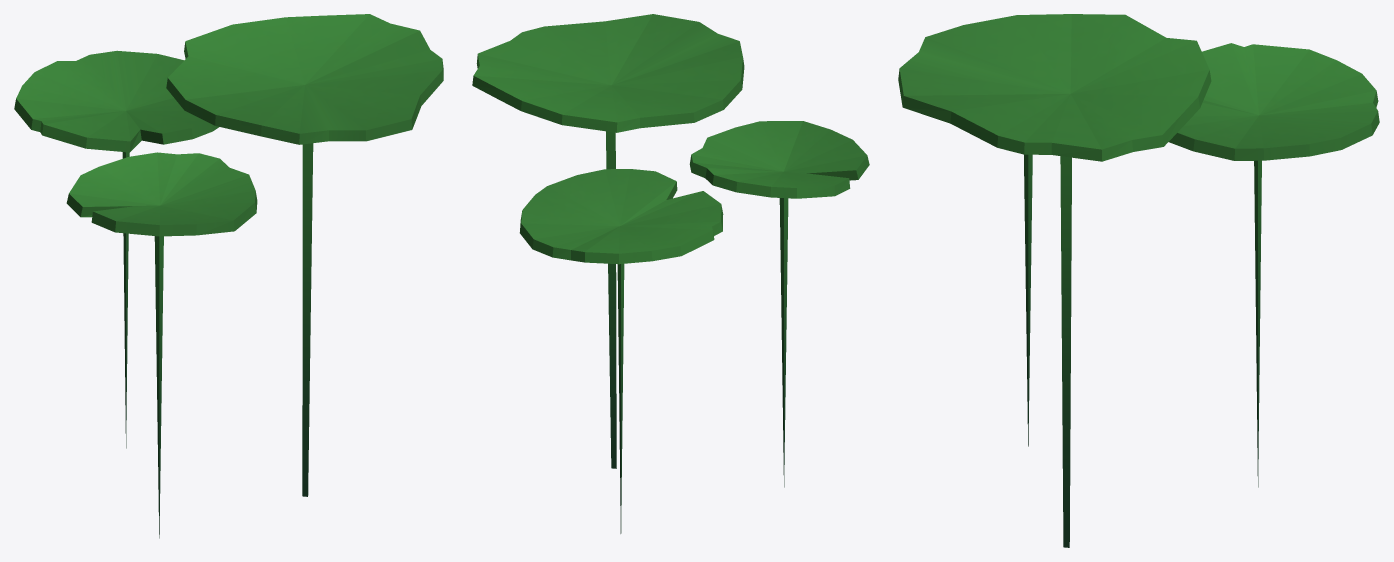
The model's file is ZLP_Grass_E_4.FBX.
The picture shows the model from 3 angles, left to right: view 1: azimuth 30°, elevation 25°; view 2: azimuth 150°, elevation 25°; view 3: azimuth 270°, elevation 25°; orthographic projection. The views are drawn at different scales.
Visible parts, largest first — view 1: ZLP_Grass_E_4; view 2: ZLP_Grass_E_4; view 3: ZLP_Grass_E_4.
Boxes of the visible parts, x1=… form: ZLP_Grass_E_4: x1=14, y1=14, x2=443, y2=538; ZLP_Grass_E_4: x1=472, y1=14, x2=869, y2=533; ZLP_Grass_E_4: x1=898, y1=14, x2=1379, y2=547.
Size of the model in its own units: 132 by 146 by 134.
